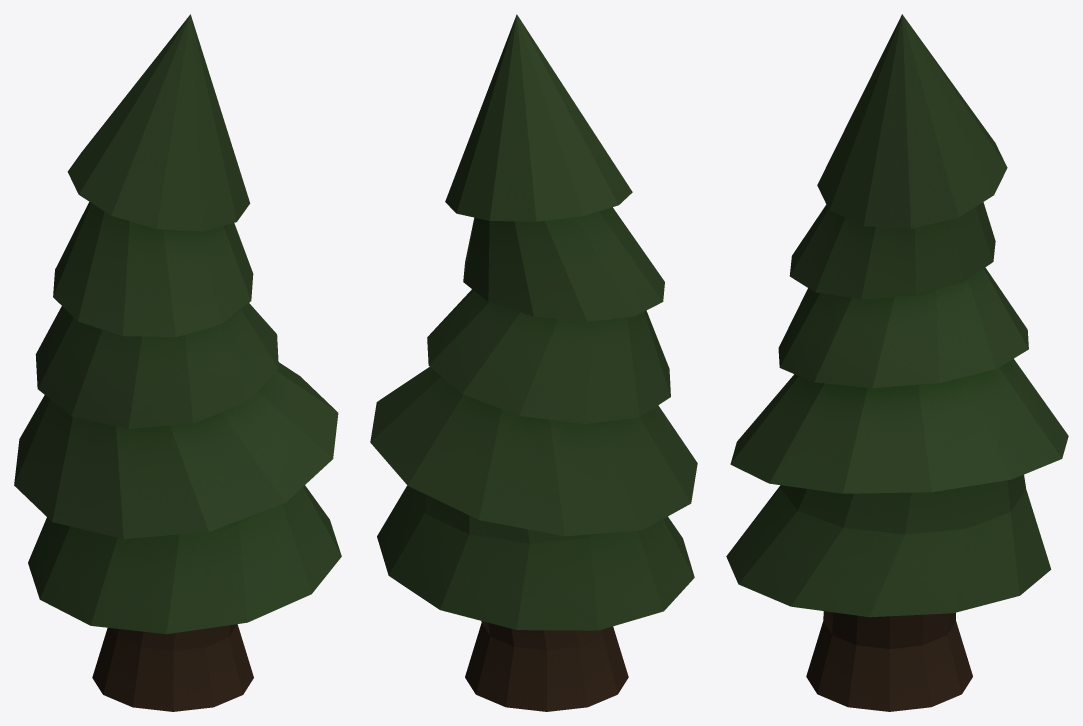
The model's file is tree1.1.obj.
3 views of the same model, side by side, from view 1: azimuth 30°, elevation 25°; view 2: azimuth 150°, elevation 25°; view 3: azimuth 270°, elevation 25° (orthographic). The views are drawn at different scales.
Visible parts, largest first — view 1: Tree1_Cylinder.001_Tree1_Cylinder.001_Leaves.006, Tree1_Cylinder.001_Tree1_Cylinder.001_Trunk.006; view 2: Tree1_Cylinder.001_Tree1_Cylinder.001_Leaves.006, Tree1_Cylinder.001_Tree1_Cylinder.001_Trunk.006; view 3: Tree1_Cylinder.001_Tree1_Cylinder.001_Leaves.006, Tree1_Cylinder.001_Tree1_Cylinder.001_Trunk.006.
Boxes of the visible parts, x1,y1,x2,y2 form: Tree1_Cylinder.001_Tree1_Cylinder.001_Leaves.006: (14, 14, 341, 634); Tree1_Cylinder.001_Tree1_Cylinder.001_Trunk.006: (92, 624, 253, 711); Tree1_Cylinder.001_Tree1_Cylinder.001_Leaves.006: (370, 14, 697, 630); Tree1_Cylinder.001_Tree1_Cylinder.001_Trunk.006: (465, 621, 628, 711); Tree1_Cylinder.001_Tree1_Cylinder.001_Leaves.006: (726, 14, 1068, 617); Tree1_Cylinder.001_Tree1_Cylinder.001_Trunk.006: (806, 611, 972, 711).
Bounding box in the file's own units: 3.98 × 8.91 × 4.1.
Materials: 2 (2 with a texture image).
